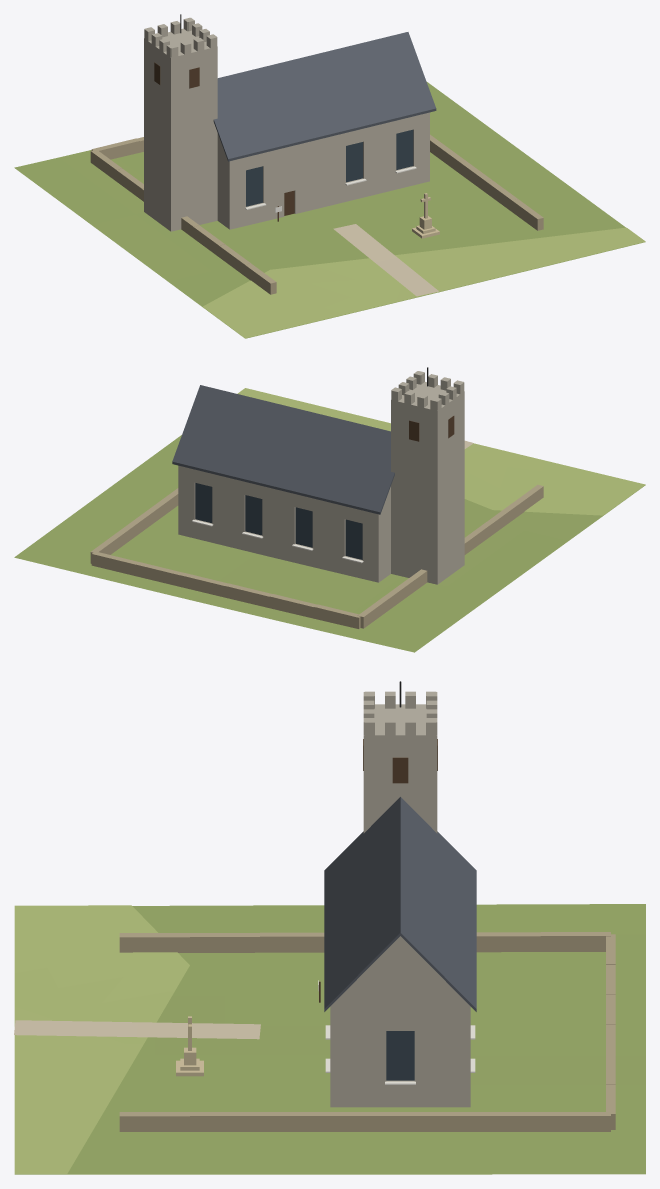
File: church.glb
The picture shows the model from 3 angles, top to bottom: view 1: azimuth 30°, elevation 25°; view 2: azimuth 150°, elevation 25°; view 3: azimuth 270°, elevation 25°; orthographic projection. The views are drawn at different scales.
Visible parts, largest first — view 1: ground, cut_roof_st_aldhelm, st_aldhelm_walls, ground_areas, st_aldhelm_shell, boundaries, ground_lanes, prop_memorial; view 2: ground, cut_roof_st_aldhelm, st_aldhelm_walls, st_aldhelm_shell, ground_areas, boundaries; view 3: ground, ground_areas, cut_roof_st_aldhelm, boundaries, st_aldhelm_shell, st_aldhelm_walls, ground_lanes, prop_memorial.
Boxes of the visible parts, bbox=[...] form: ground: bbox=[14, 81, 645, 338]; cut_roof_st_aldhelm: bbox=[213, 32, 436, 161]; st_aldhelm_walls: bbox=[144, 14, 416, 231]; ground_areas: bbox=[203, 227, 645, 338]; st_aldhelm_shell: bbox=[217, 112, 429, 229]; boundaries: bbox=[90, 134, 543, 294]; ground_lanes: bbox=[333, 224, 438, 296]; prop_memorial: bbox=[412, 193, 439, 238]; ground: bbox=[14, 435, 645, 652]; cut_roof_st_aldhelm: bbox=[172, 385, 394, 514]; st_aldhelm_walls: bbox=[192, 367, 464, 584]; st_aldhelm_shell: bbox=[178, 465, 390, 582]; ground_areas: bbox=[237, 388, 645, 515]; boundaries: bbox=[90, 484, 543, 628]; ground: bbox=[14, 904, 645, 1174]; ground_areas: bbox=[14, 905, 189, 1173]; cut_roof_st_aldhelm: bbox=[324, 797, 476, 1011]; boundaries: bbox=[119, 932, 615, 1131]; st_aldhelm_shell: bbox=[330, 936, 470, 1107]; st_aldhelm_walls: bbox=[325, 681, 475, 1084]; ground_lanes: bbox=[14, 1020, 260, 1039]; prop_memorial: bbox=[176, 1016, 203, 1076].
Bounding box in the file's own units: 36 × 18.04 × 36.04.
